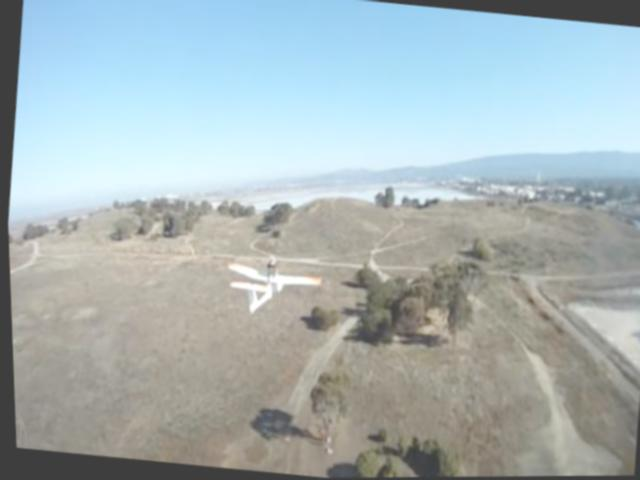uav: (215, 247, 331, 329)
